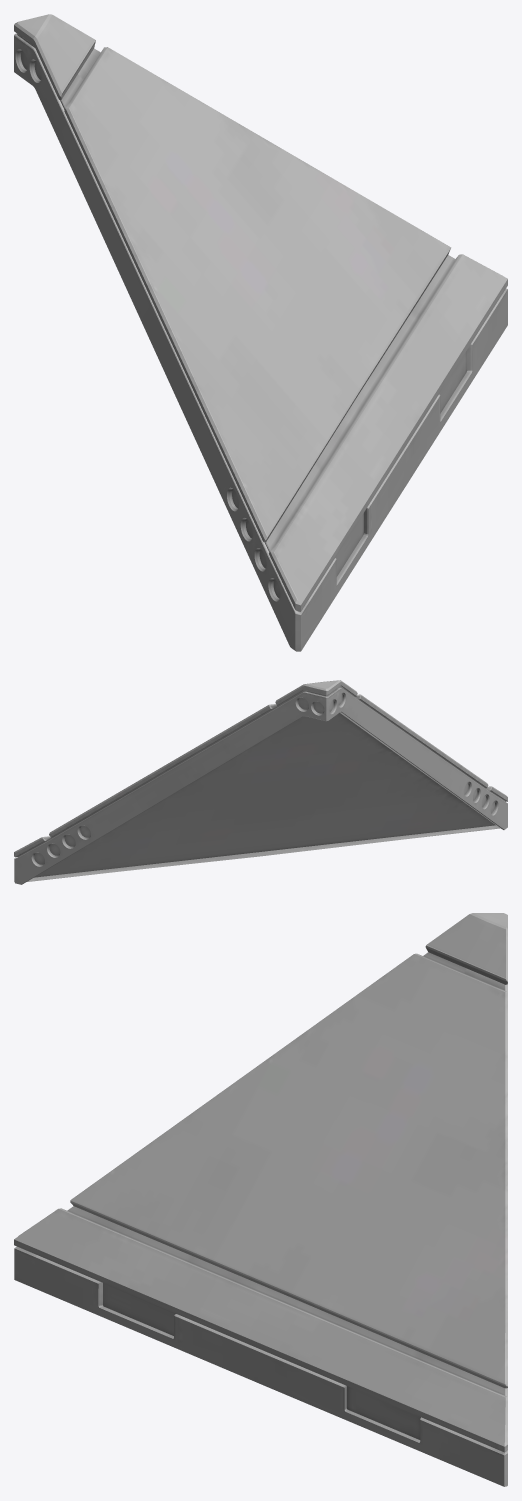
File: SM_SlopeRoofCorner_SF_4ed286.glb
3 views of the same model, one above another, from view 1: azimuth 30°, elevation 25°; view 2: azimuth 150°, elevation 25°; view 3: azimuth 270°, elevation 25° (orthographic). The views are drawn at different scales.
Bounding box in the file's own units: 4.03 × 3.3 × 4.03.
Materials: 1 (1 with a texture image).
